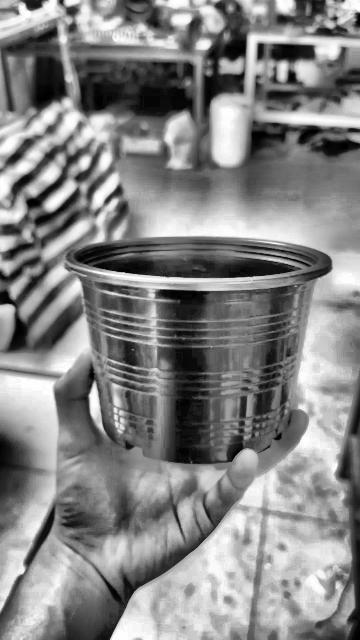pot: (65, 237, 330, 464)
